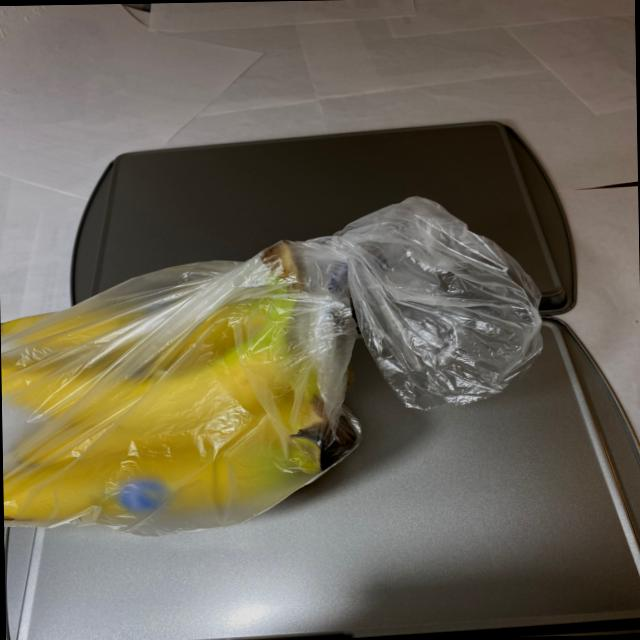banana: (0, 223, 363, 561)
